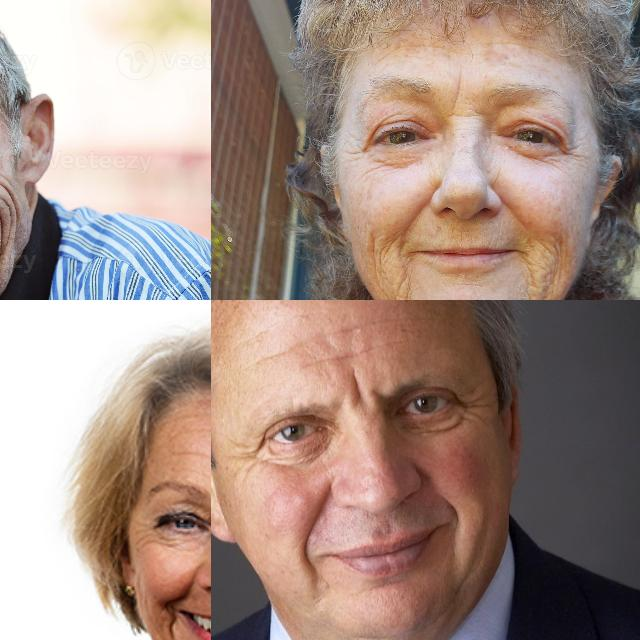crows_feet: (134, 512, 156, 550), (348, 134, 372, 168), (458, 392, 486, 420), (564, 137, 586, 171), (242, 442, 268, 466)
forehead: (320, 344, 370, 361), (172, 435, 204, 461), (260, 344, 292, 360)
frown_line: (444, 70, 470, 116), (348, 370, 368, 406)
gummy_smile: (299, 496, 333, 554), (402, 189, 432, 237), (500, 192, 530, 234), (169, 570, 197, 604), (444, 493, 468, 527)
masseter: (361, 228, 394, 286), (548, 237, 572, 287), (0, 175, 22, 220), (0, 225, 10, 273)
sad_smile: (519, 253, 538, 300), (160, 607, 183, 640), (394, 265, 415, 300)
